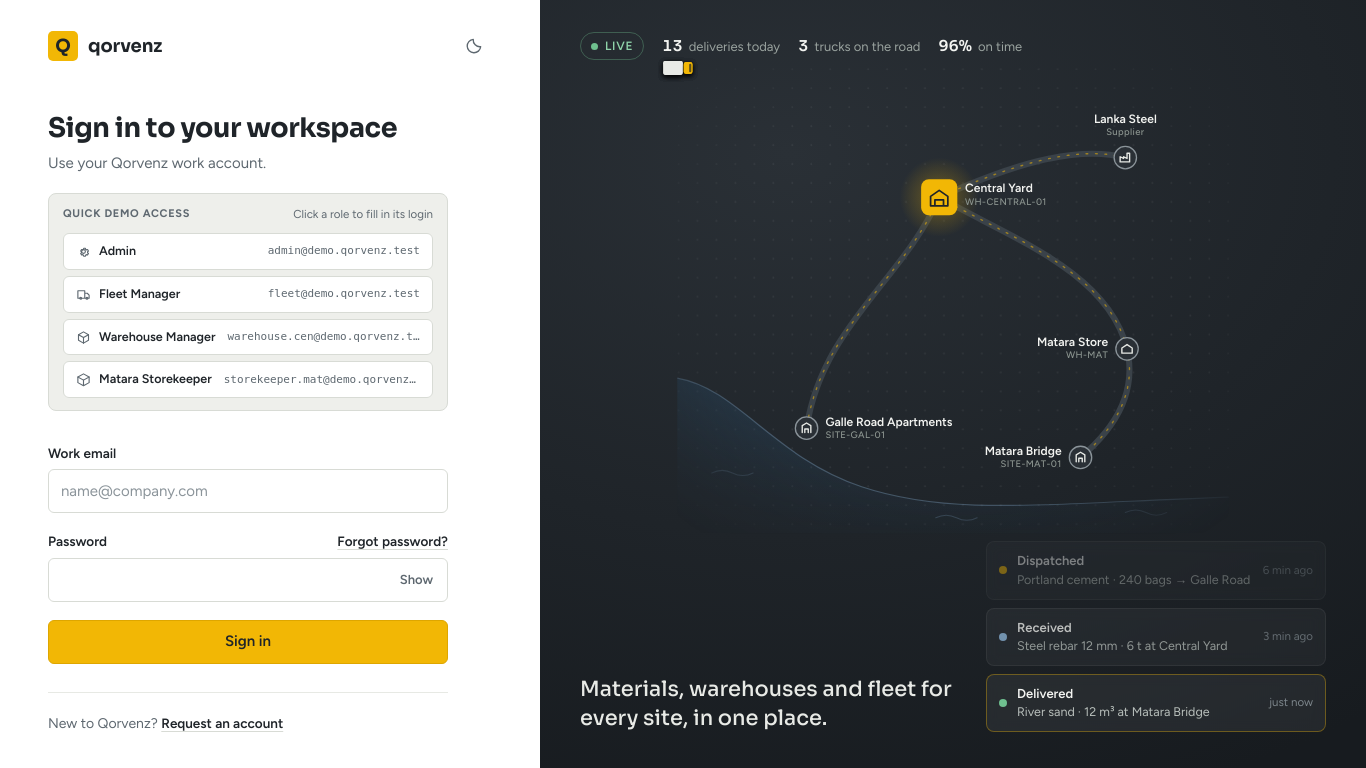
Scenario: request an account › shows a safe message when sending fails
The image size is (1366, 768).
Expected: the heading "Sign in to your workspace" is shown, [48, 112, 448, 144]
Click the button "Request an account" at (222, 723), box [161, 713, 283, 733]
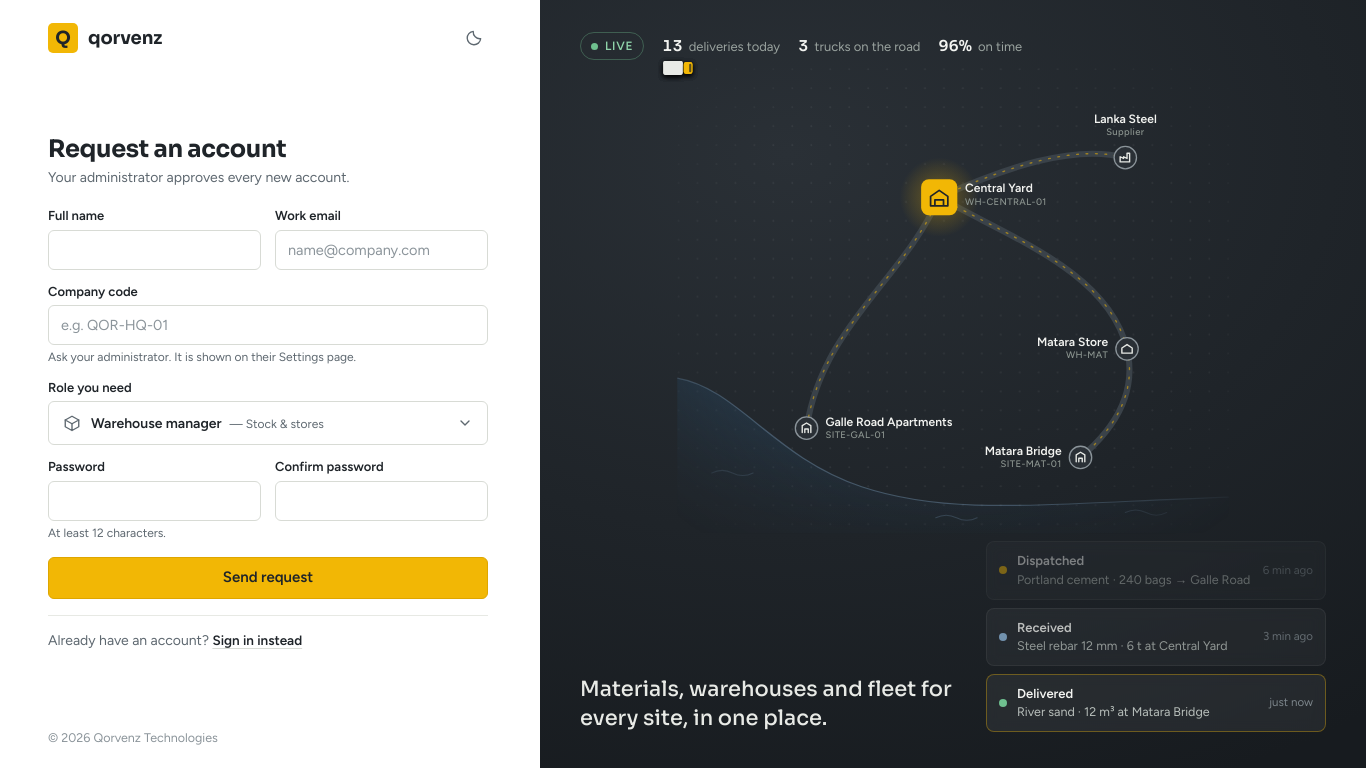
Expected: the heading "Request an account" is shown, [48, 134, 286, 164]
Type "New Person" into the field labelled "Full name" at (154, 250), box [48, 230, 261, 270]
Type "new@example.com" into the field labelled "Work email" at (382, 250), box [275, 230, 488, 270]
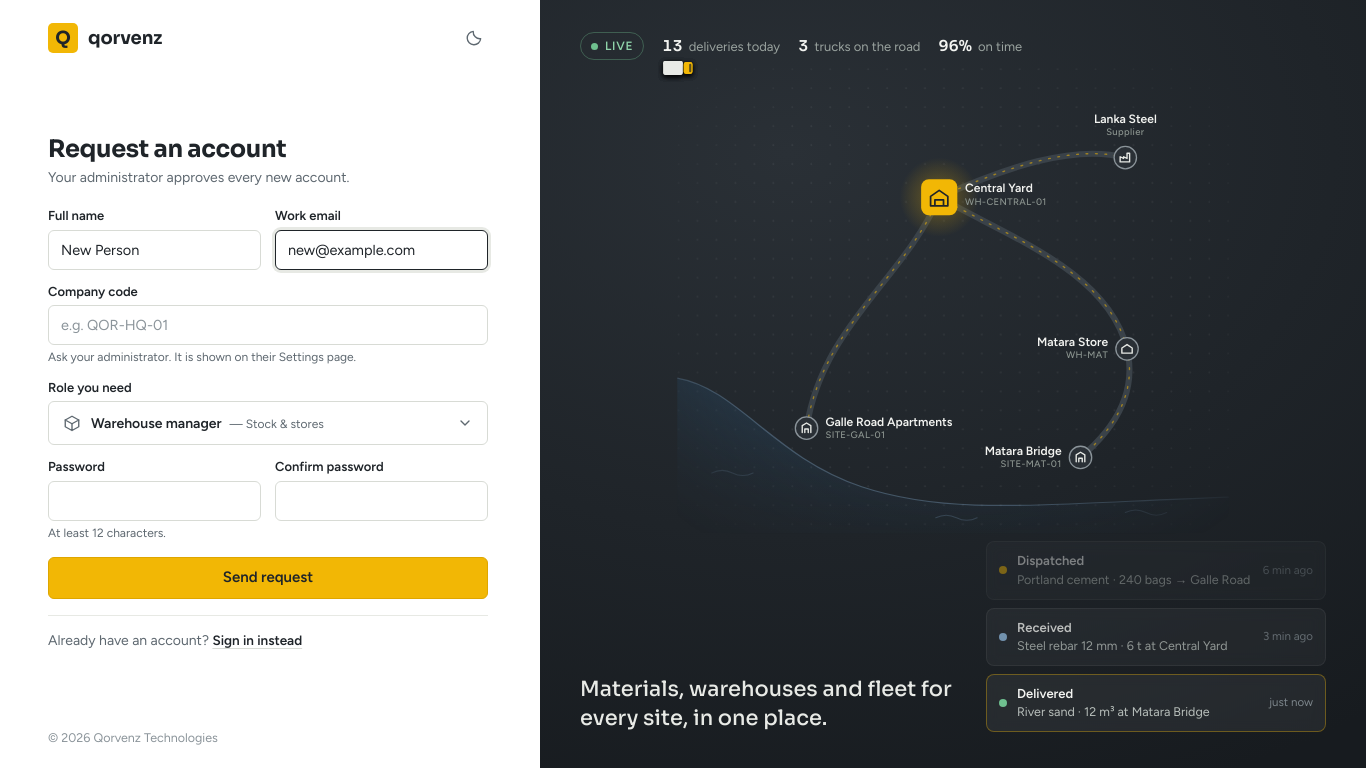
Type "QOR-HQ-01" into the field labelled "Company code" at (268, 325), box [48, 305, 488, 345]
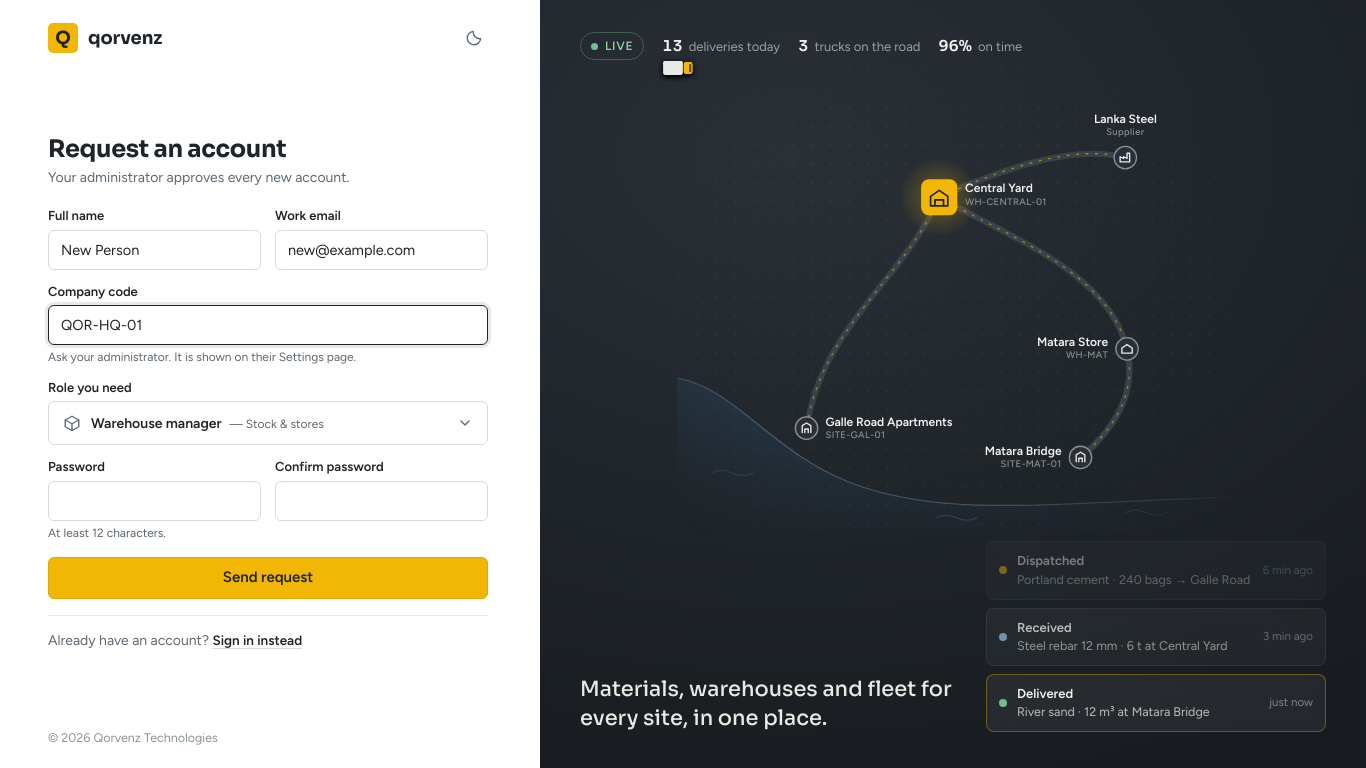
Type "long-enough-password" into the password field labelled "Password" at (154, 500), box [48, 480, 261, 520]
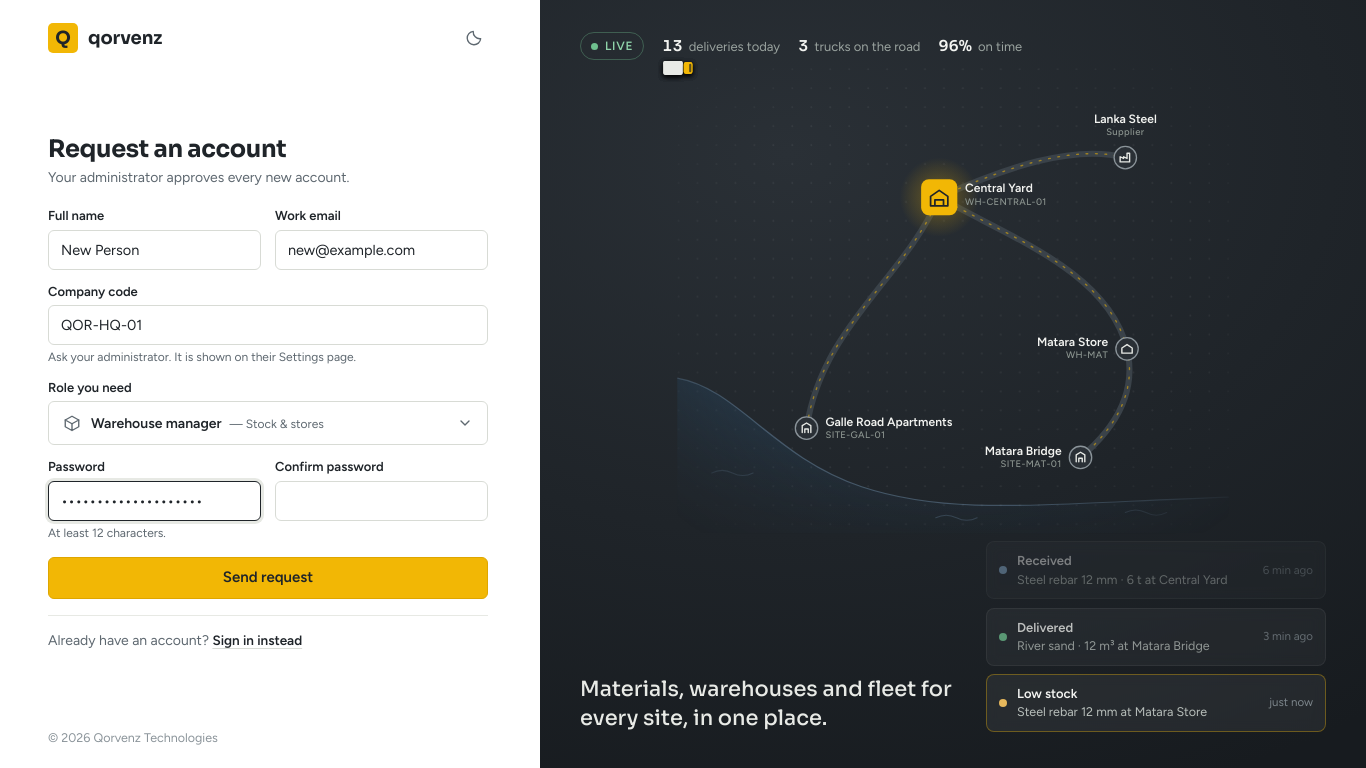
Type "long-enough-password" into the password field labelled "Confirm password" at (382, 500), box [275, 480, 488, 520]
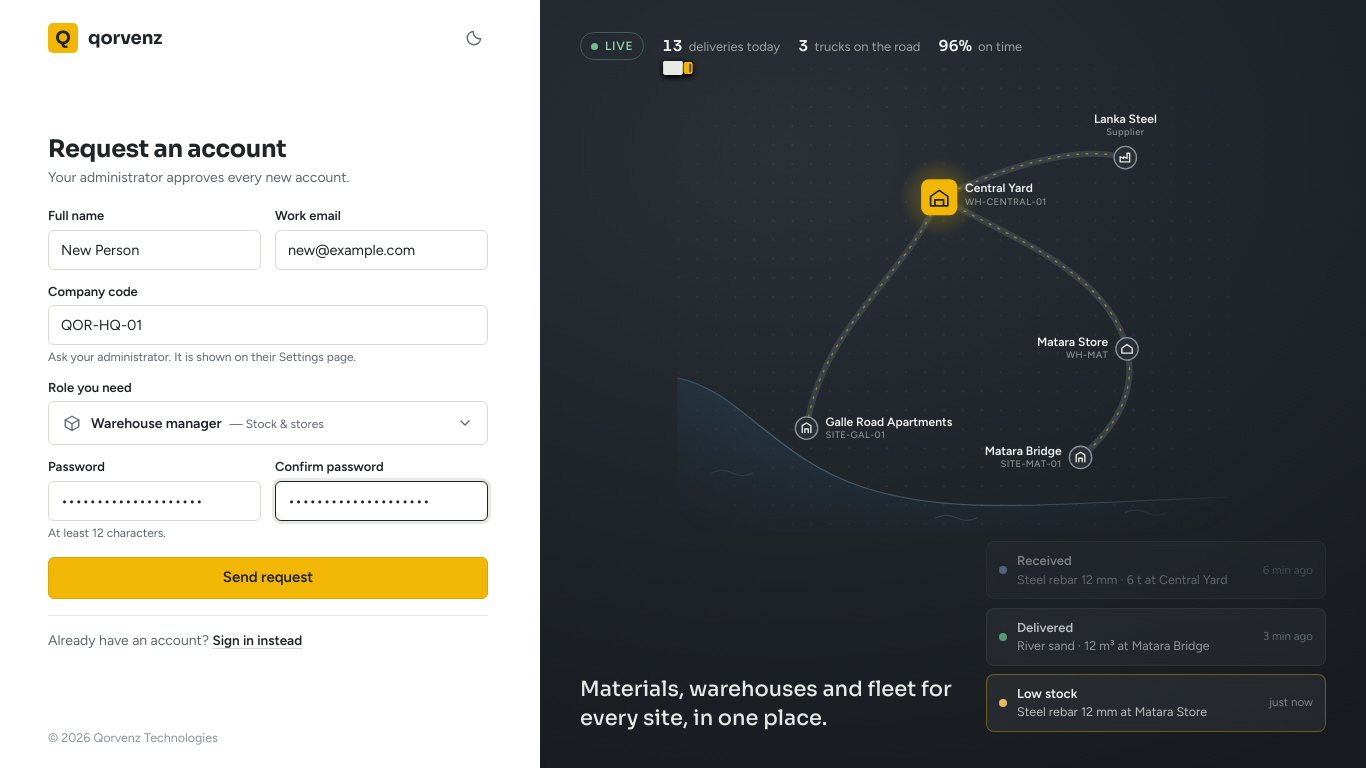
Submit the form named "Send request", box [48, 206, 488, 599]
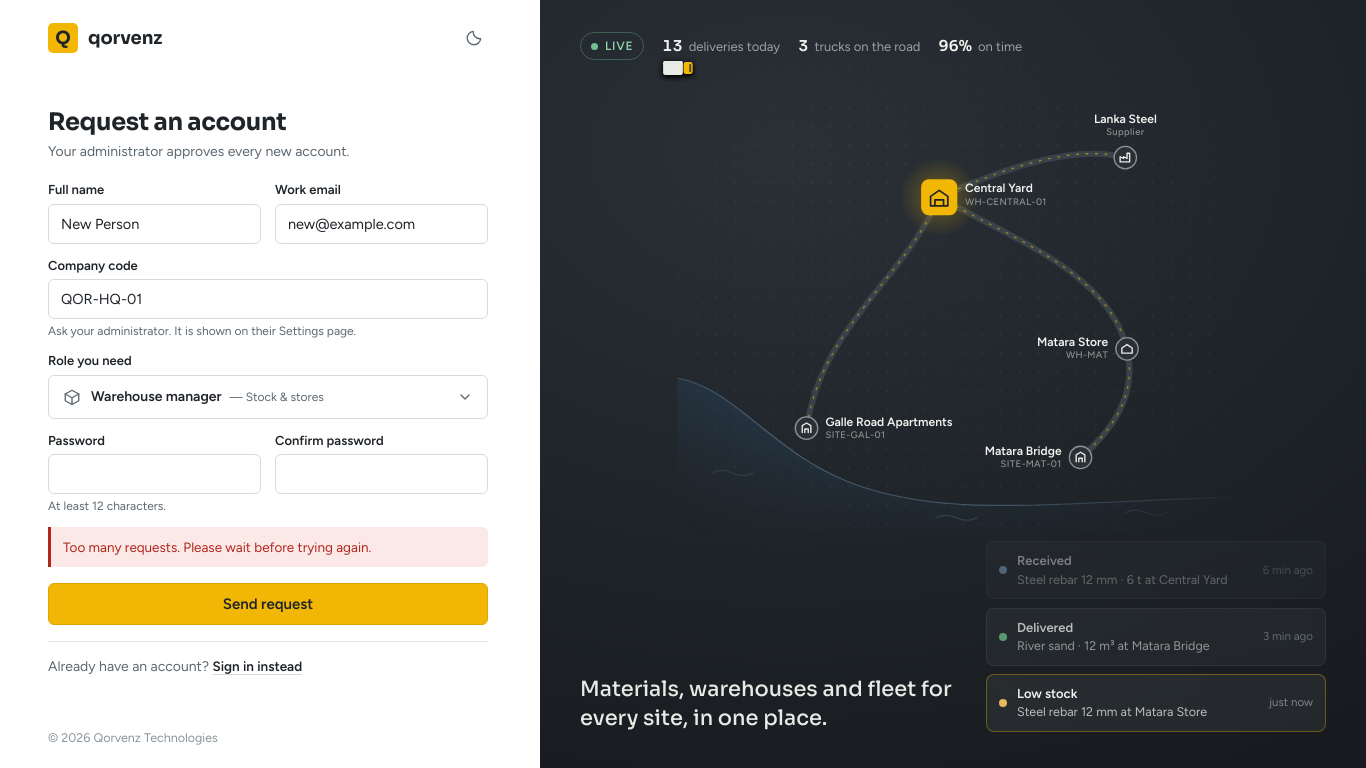
Expected: the message shows "Too many requests", [63, 539, 371, 555]
